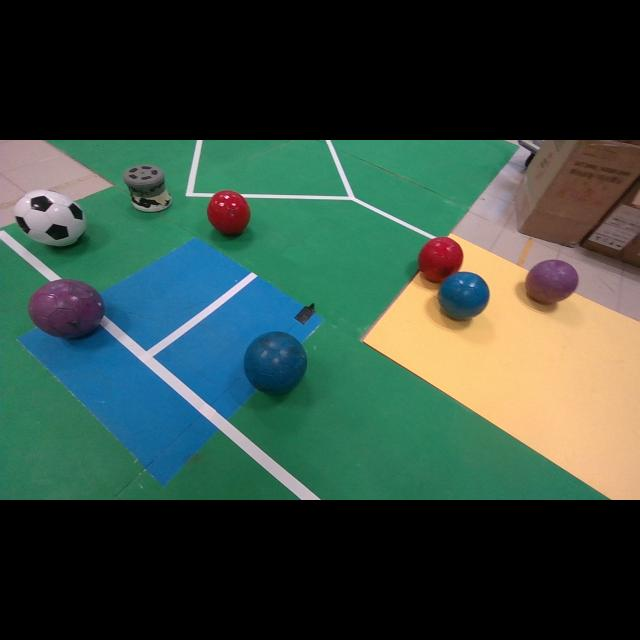B: (244, 331, 308, 395), (438, 271, 490, 320)
P: (29, 279, 105, 339), (525, 260, 579, 304)
R: (418, 238, 464, 282), (208, 190, 250, 234)
